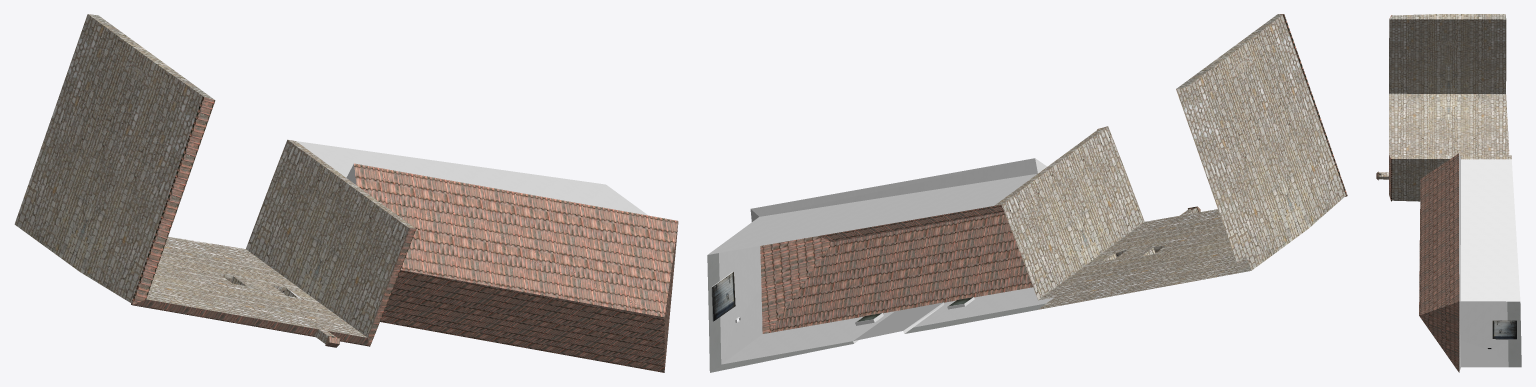
Rendered from Ryytli_22.obj.
3 renders of one model, left to right at view 1: azimuth 30°, elevation 25°; view 2: azimuth 150°, elevation 25°; view 3: azimuth 270°, elevation 25°, orthographic. The views are drawn at different scales.
Parts seen in each view (by area): view 1: Ryytli_22; view 2: Ryytli_22; view 3: Ryytli_22.
Part boxes in pixels (x1,y1,x2,y2): Ryytli_22: (14,14,678,372); Ryytli_22: (707,14,1347,372); Ryytli_22: (1376,14,1521,372).
Size of the model in its own units: 23.97 by 16.86 by 9.71.
